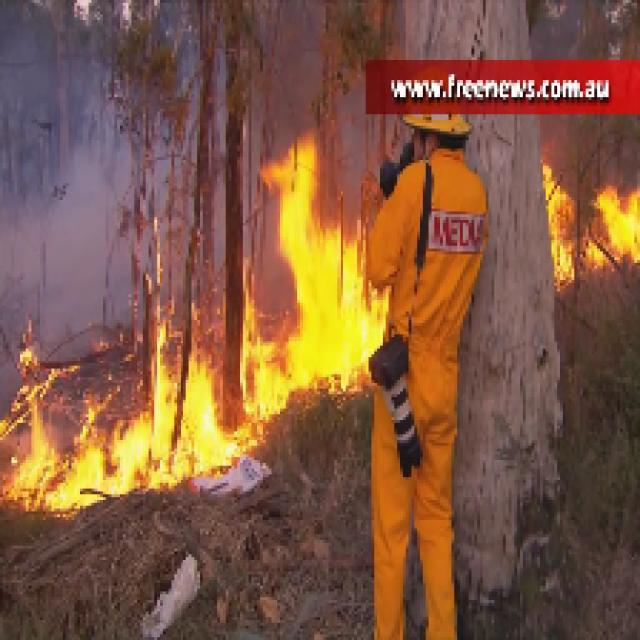Fire: (259, 147, 404, 376), (13, 351, 215, 473), (551, 176, 640, 280)
Smoke: (15, 168, 136, 320)
